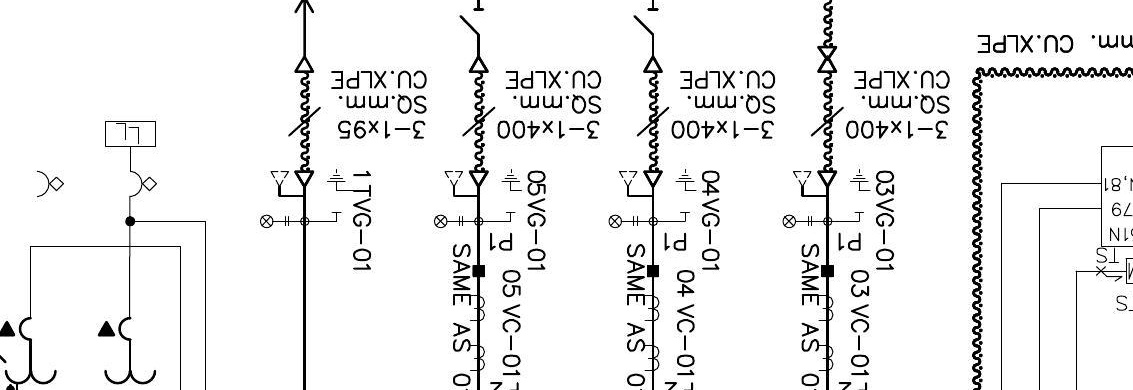22_gs: (327, 169, 355, 215), (674, 169, 698, 215), (849, 169, 872, 215), (501, 169, 524, 215)
22_ll: (782, 214, 813, 229), (608, 214, 639, 229), (433, 214, 464, 229), (259, 214, 290, 229)
LL: (103, 119, 157, 148)
terminator_single: (293, 56, 315, 74), (468, 56, 490, 74), (642, 56, 664, 74)
terminator_splicing_kits: (817, 46, 838, 74)
terminator_w_future: (791, 169, 838, 199), (444, 169, 491, 199), (269, 169, 316, 199), (617, 170, 664, 199)
